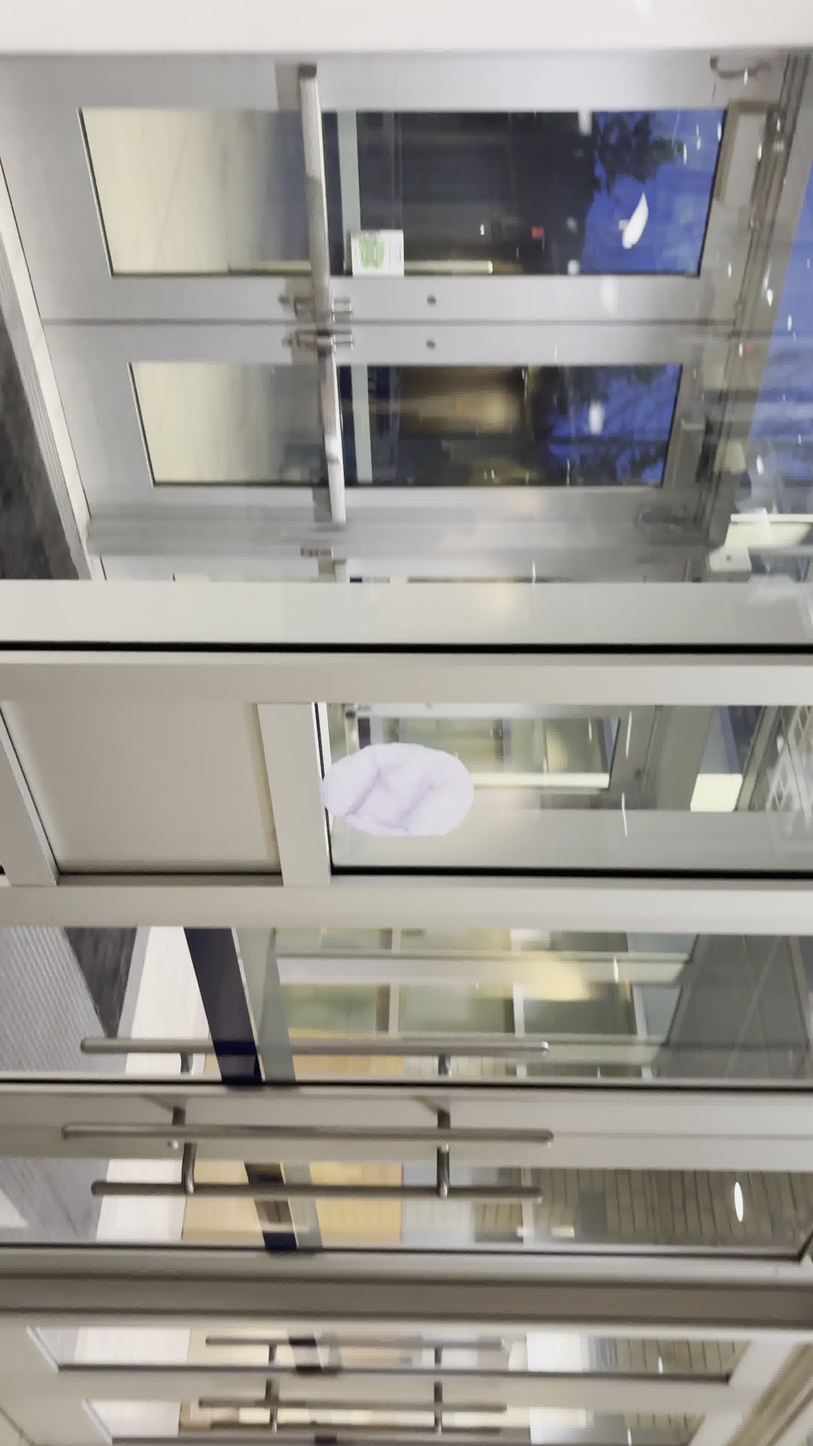Target: (319, 741, 476, 839)
